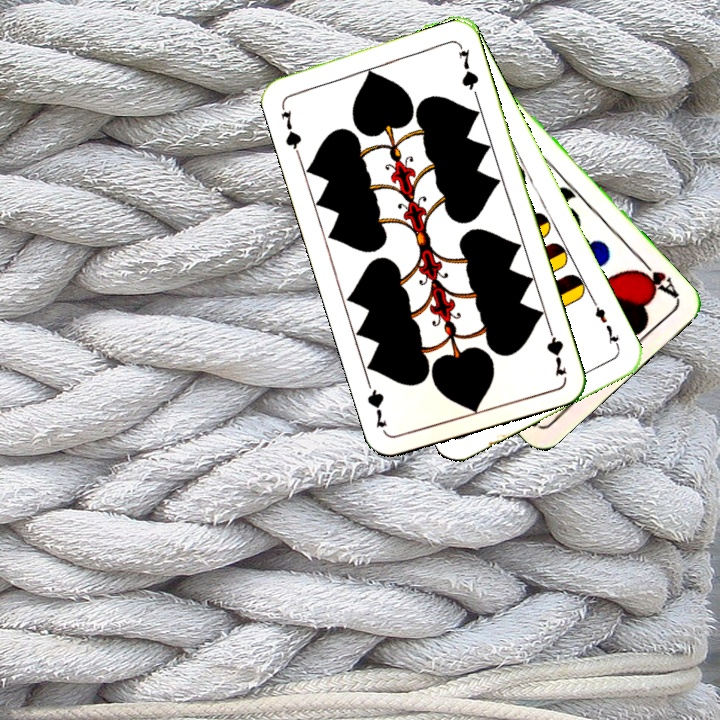E7: (588, 297, 622, 352)
G7: (276, 99, 304, 157), (542, 320, 569, 379)
HA: (631, 253, 682, 301)
